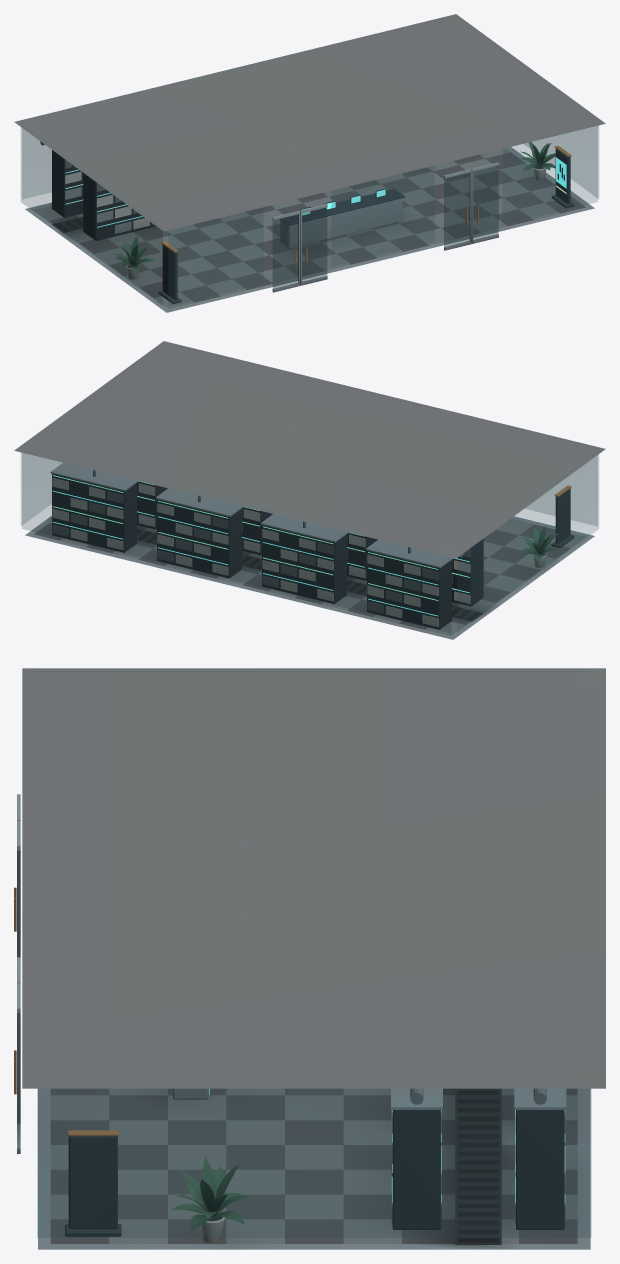
Rendered from lobby-infra.lod0.glb.
3 views of the same model, one above another, from view 1: azimuth 30°, elevation 25°; view 2: azimuth 150°, elevation 25°; view 3: azimuth 270°, elevation 25° (orthographic). The views are drawn at different scales.
Visible parts, largest first — view 1: structure, door_0_l, door_1_l, door_1_r, door_0_r, foliage; view 2: structure, foliage; view 3: structure, foliage, door_1_r.
Part boxes in pixels (x1=…): structure: x1=14, y1=14, x2=605, y2=312; door_0_l: x1=272, y1=211, x2=300, y2=292; door_1_l: x1=444, y1=169, x2=471, y2=250; door_1_r: x1=471, y1=162, x2=498, y2=243; door_0_r: x1=300, y1=204, x2=327, y2=285; foliage: x1=113, y1=142, x2=555, y2=273; structure: x1=14, y1=341, x2=605, y2=639; foliage: x1=521, y1=526, x2=559, y2=561; structure: x1=22, y1=668, x2=605, y2=1249; foliage: x1=172, y1=1157, x2=249, y2=1230; door_1_r: x1=14, y1=983, x2=20, y2=1153.
Bounding box in the file's own units: 19.48 × 3.62 × 11.52.
